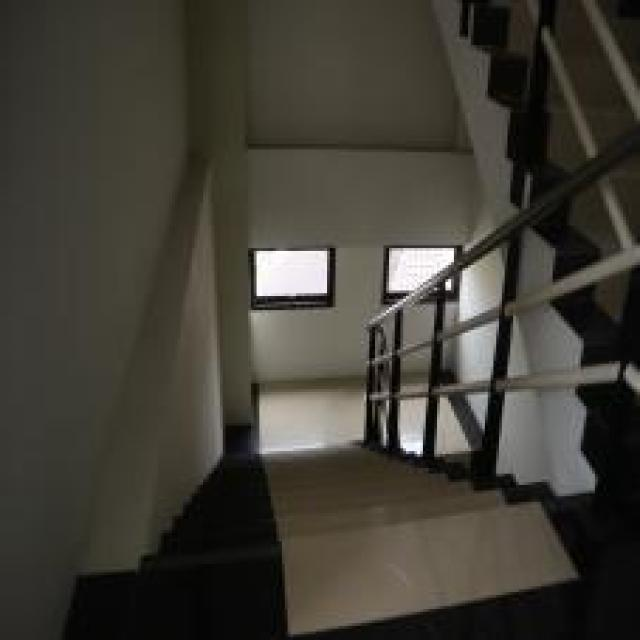downstair: (226, 446, 393, 596)
